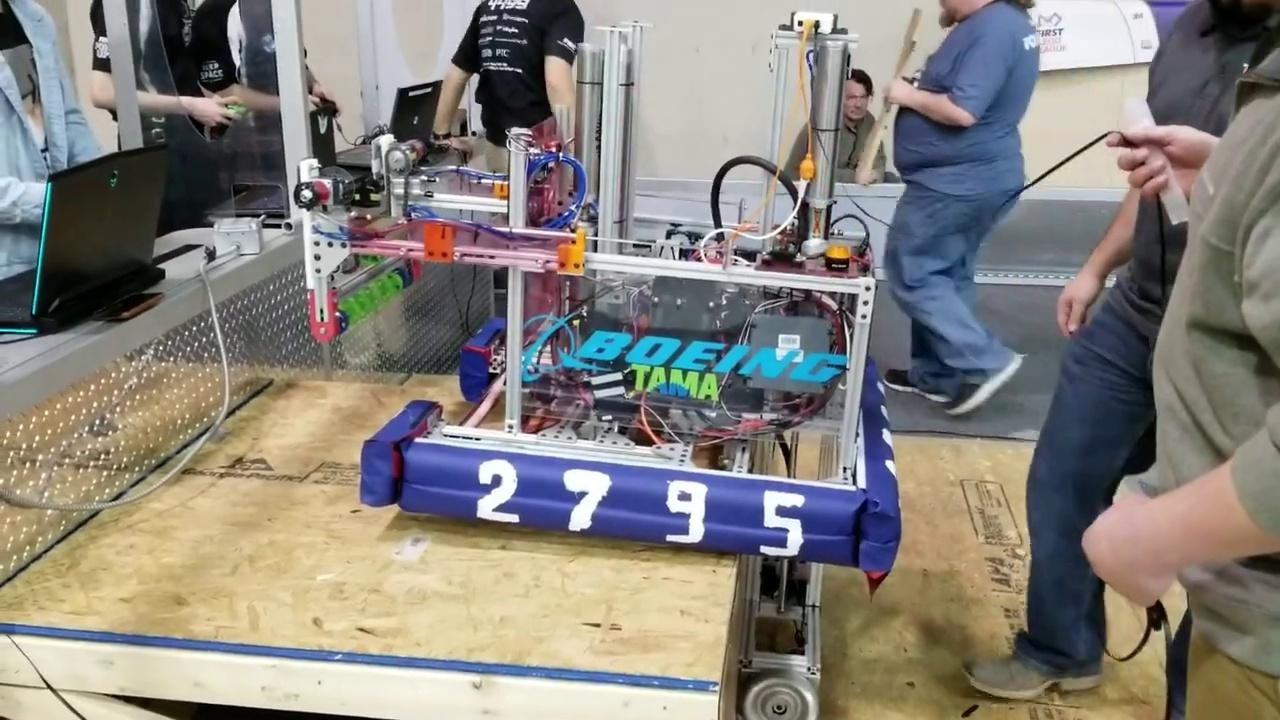robot: (293, 0, 903, 577)
